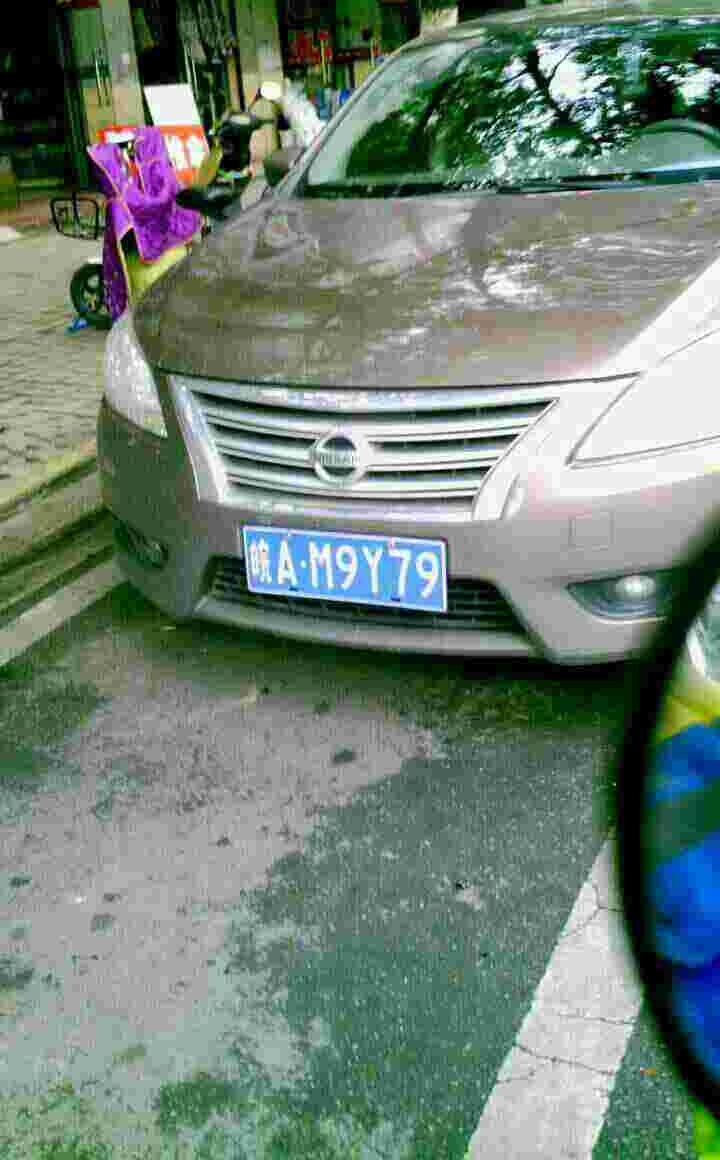license_plate: (249, 521, 453, 616)
